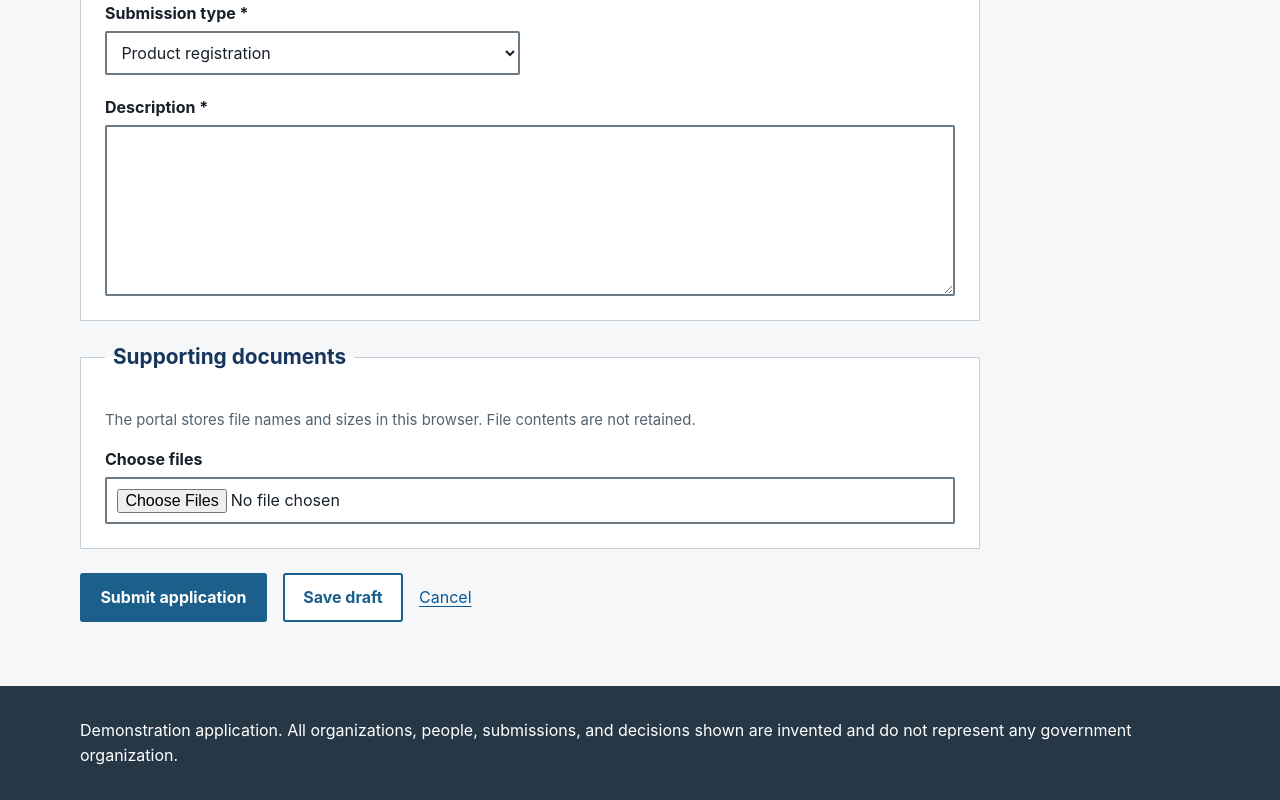
Test: Regulatory Submission Portal › shows required-field validation on an incomplete submission
This screenshot has width=1280, height=800.
(page scrolled)
Click the button "Submit application".
click(173, 597)  # box [80, 572, 267, 622]
(page scrolled)
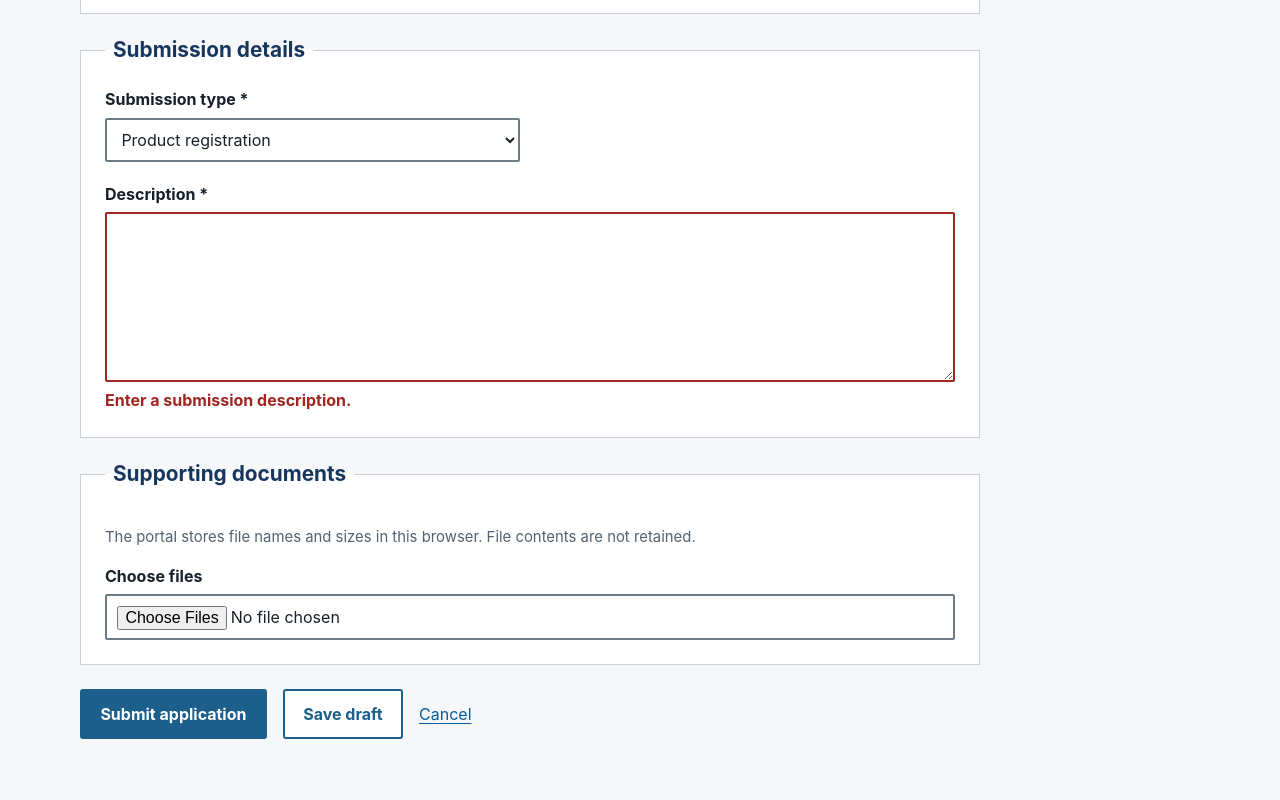
Now the text "Enter a submission description." is shown, box [105, 390, 351, 410]
